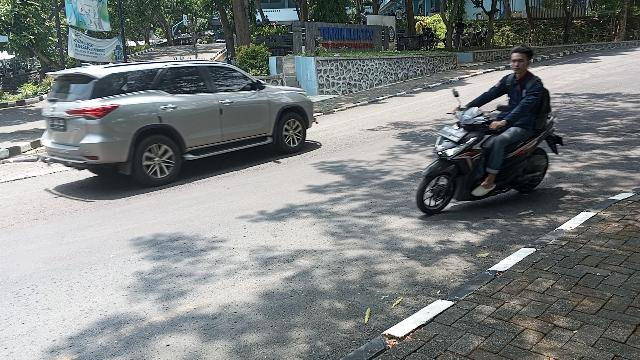motor: (416, 88, 566, 218)
non-helm: (511, 46, 536, 77)
